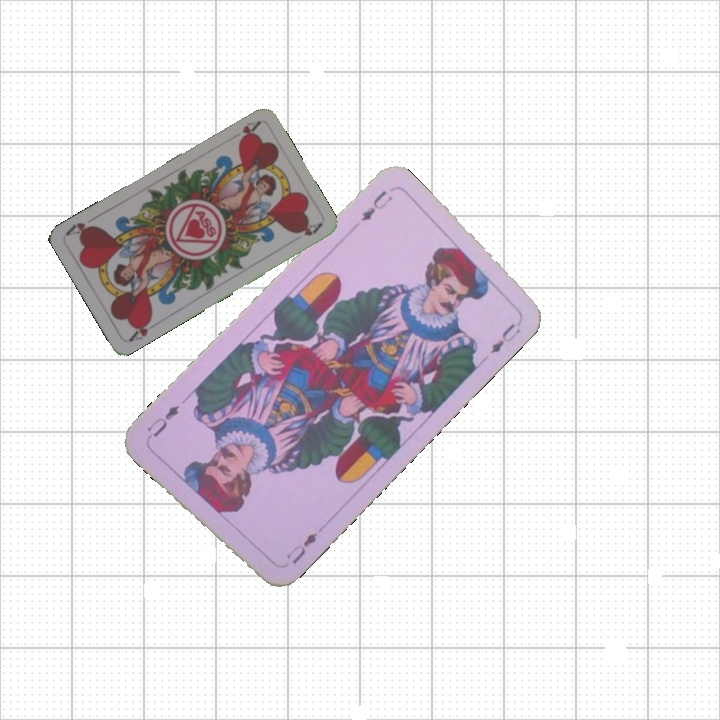EU: (281, 528, 320, 567), (356, 185, 395, 224)
HA: (124, 313, 161, 345), (235, 117, 263, 144)
